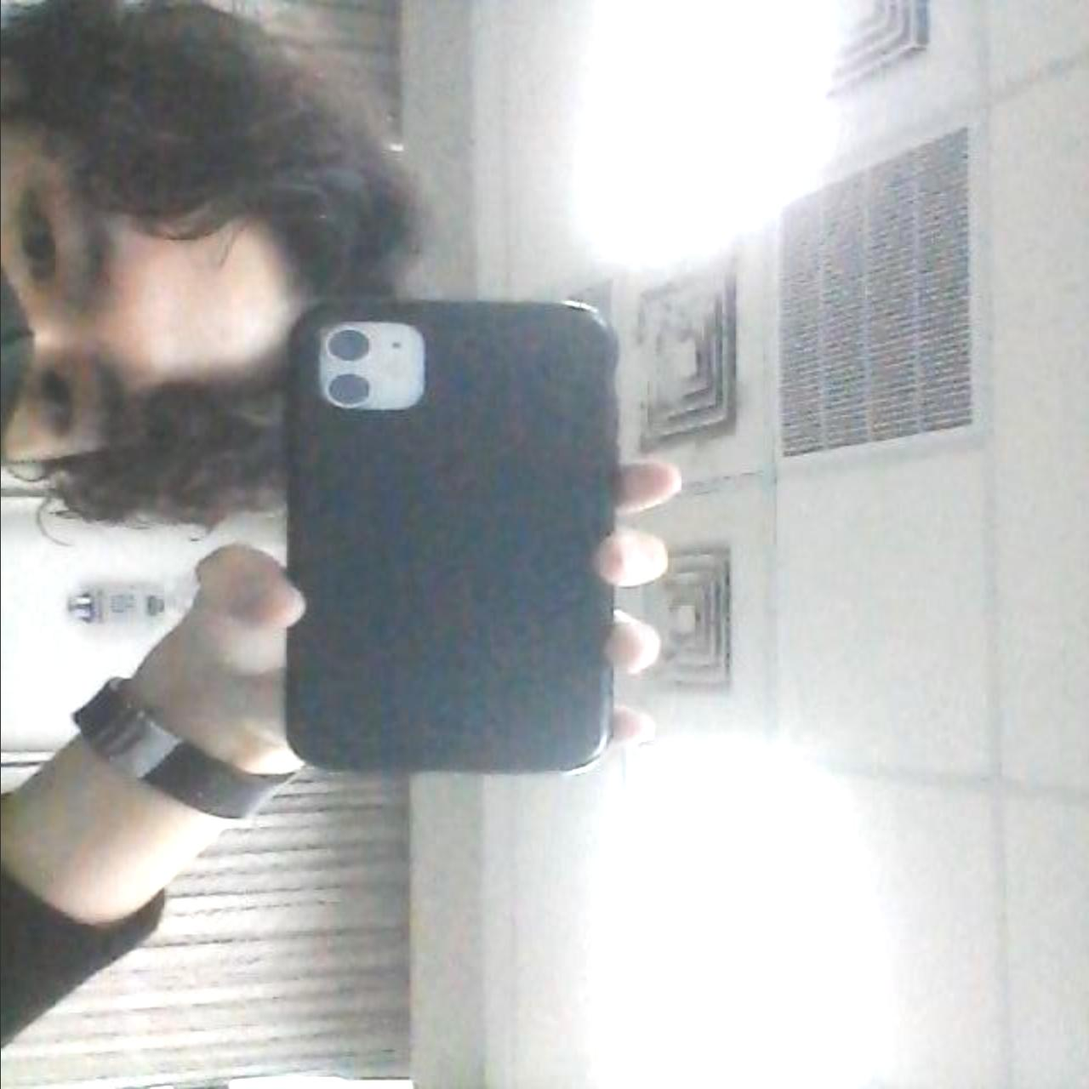phone: (263, 284, 637, 798)
